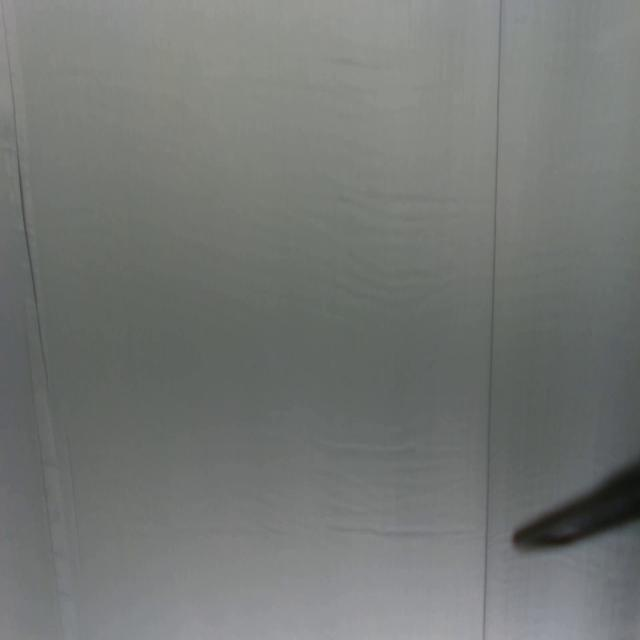crease: (0, 3, 51, 397), (481, 2, 504, 640)
